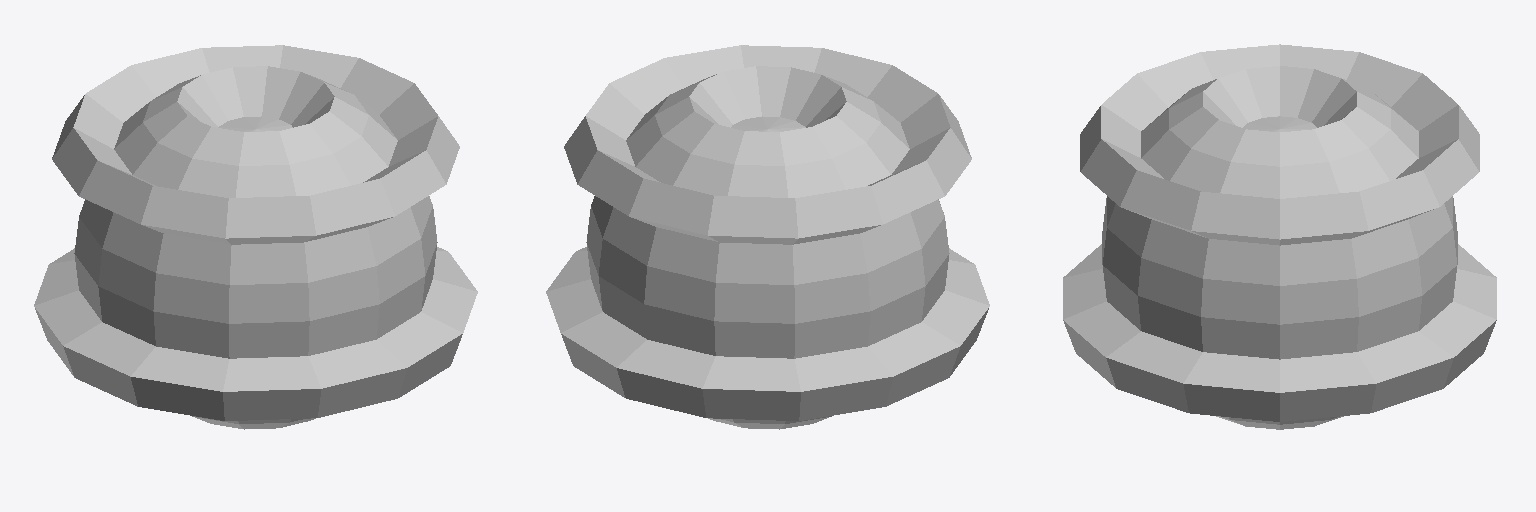
The model's file is Interphase Orb.obj.
3 views of the same model, side by side, from view 1: azimuth 30°, elevation 25°; view 2: azimuth 150°, elevation 25°; view 3: azimuth 270°, elevation 25° (orthographic).
Visible parts, largest first — view 1: pSphere6; view 2: pSphere6; view 3: pSphere6.
Part boxes in pixels (x1,y1,x2,y2): pSphere6: (34,45,477,429); pSphere6: (546,45,989,429); pSphere6: (1063,44,1496,429).
Size of the model in its own units: 1.84 by 1.43 by 1.79.